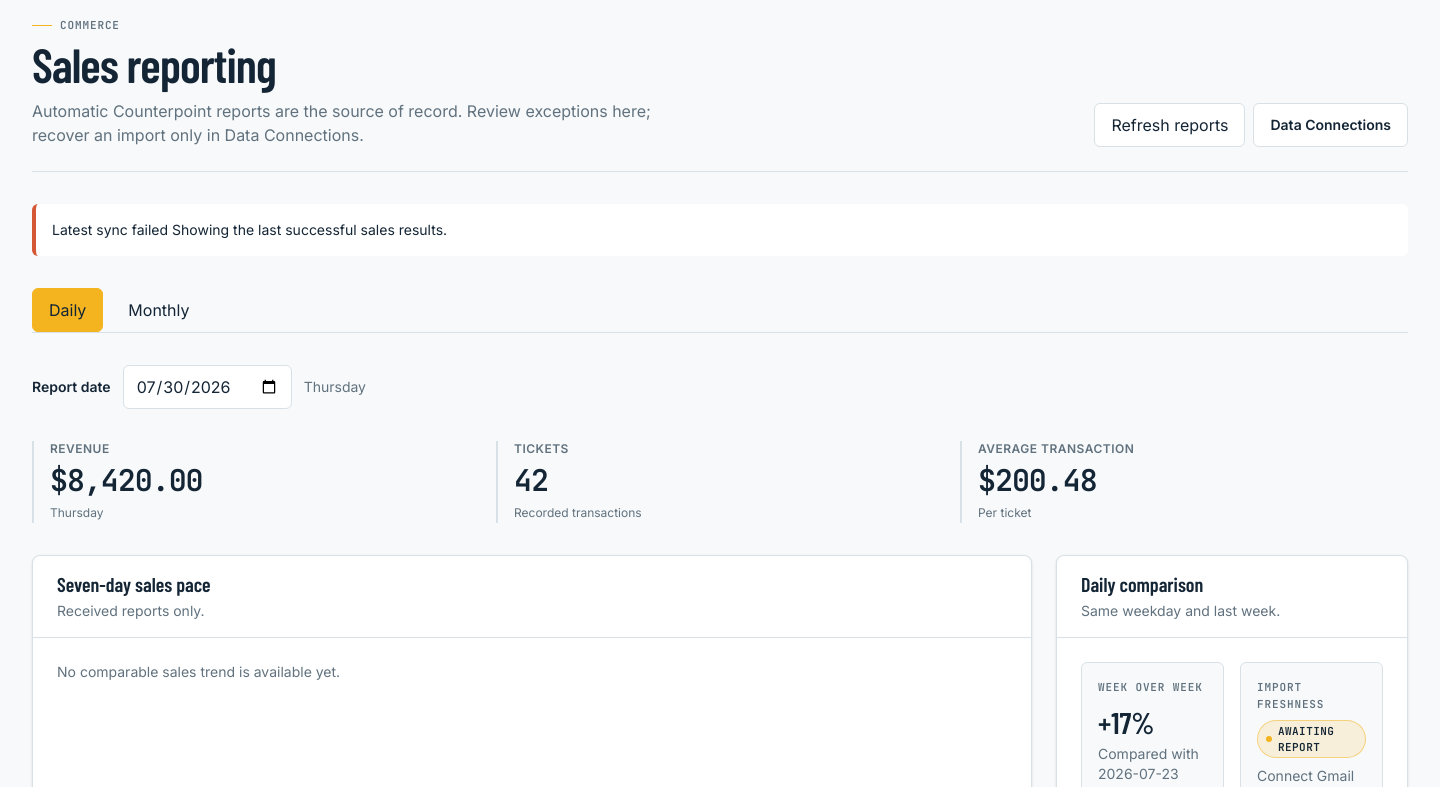
Scenario: SalesPage › keeps AI analysis an explicit monthly action
Click the tab "Monthly".
click(159, 310)  # box [111,288,206,332]
(page scrolled)
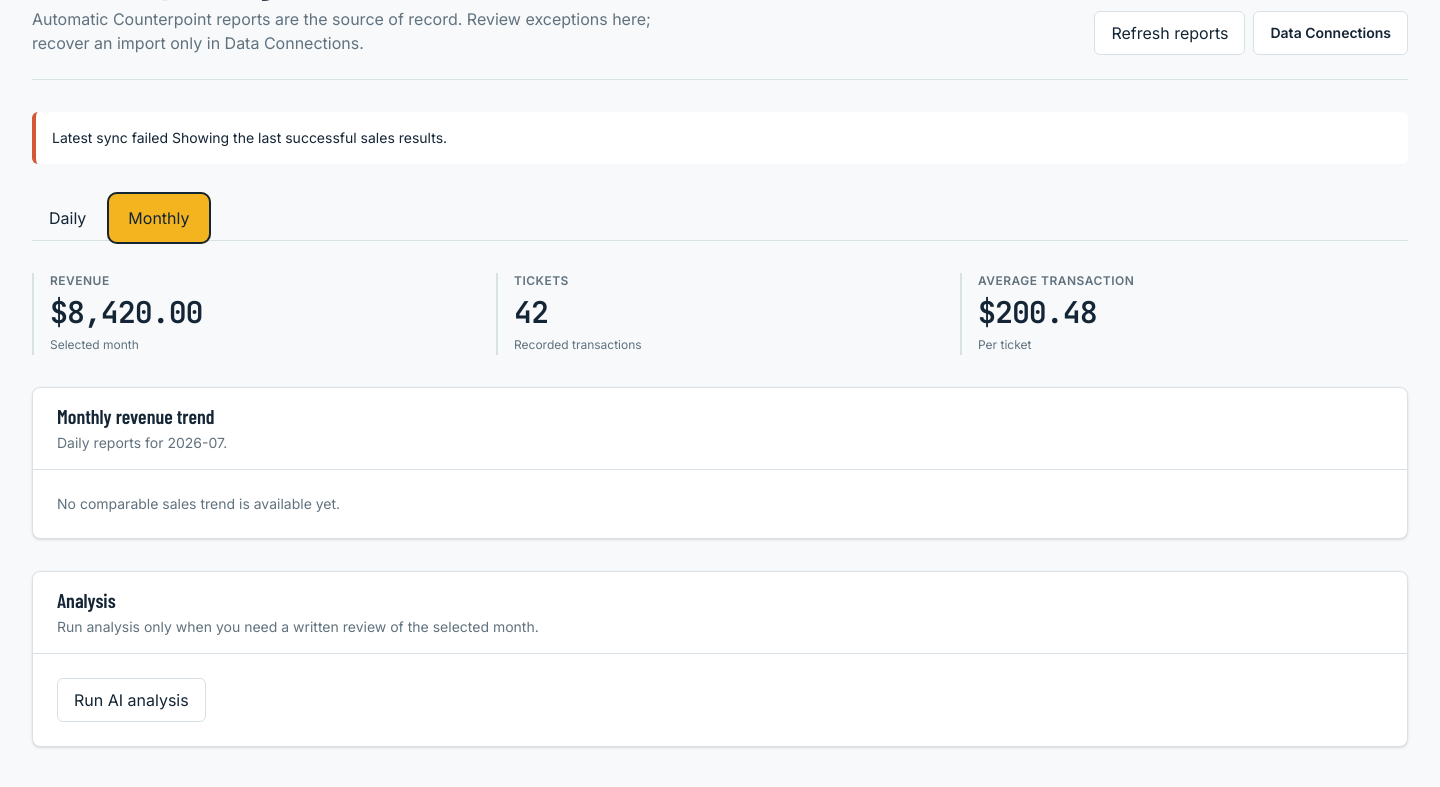
Expected: the button "Run AI analysis" is shown, [57,678,206,722]
